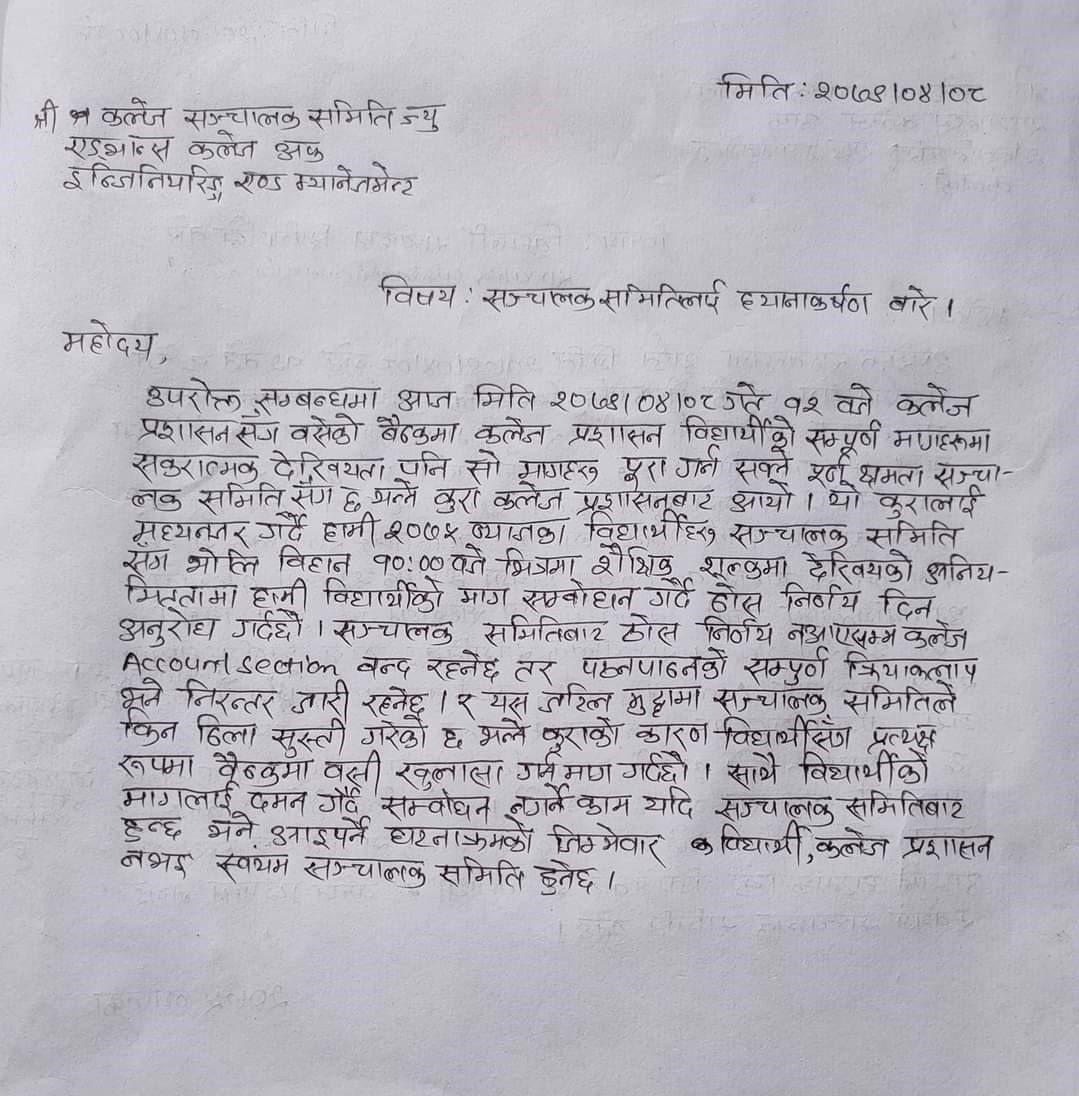text: (59, 159, 228, 205), (812, 77, 992, 109), (579, 645, 729, 683), (301, 849, 429, 891), (294, 161, 421, 203), (737, 281, 873, 320), (320, 572, 444, 614), (596, 277, 729, 316), (716, 715, 852, 752), (797, 749, 935, 785), (388, 820, 537, 853), (329, 610, 458, 648), (137, 415, 283, 448), (584, 507, 717, 543), (546, 823, 671, 861), (841, 648, 980, 682), (547, 388, 719, 415), (477, 612, 608, 647), (268, 444, 388, 482), (116, 606, 221, 649), (844, 789, 969, 825), (728, 515, 852, 551), (129, 451, 261, 484), (120, 573, 239, 609), (838, 682, 967, 715), (379, 788, 494, 825), (711, 791, 837, 824), (799, 548, 914, 584), (120, 778, 238, 813), (718, 820, 805, 867), (61, 317, 158, 359), (143, 374, 244, 414), (571, 485, 718, 512), (681, 413, 794, 448), (393, 756, 506, 791), (265, 815, 369, 853), (182, 100, 303, 132), (126, 516, 250, 547), (434, 854, 527, 895), (711, 683, 830, 715), (740, 645, 829, 687), (519, 581, 635, 613), (210, 749, 310, 786), (871, 487, 990, 518), (303, 94, 397, 133), (180, 676, 279, 713), (480, 283, 596, 314), (254, 383, 382, 411), (267, 715, 348, 759), (898, 829, 994, 866), (61, 131, 173, 162), (888, 424, 993, 457), (784, 620, 899, 649), (590, 540, 675, 579), (623, 682, 705, 721), (895, 381, 977, 420), (540, 715, 622, 753), (863, 519, 963, 550), (563, 419, 666, 449), (288, 409, 362, 450), (467, 517, 570, 546), (377, 272, 459, 308), (779, 579, 861, 615), (489, 480, 570, 516), (698, 550, 792, 581), (424, 647, 506, 682), (813, 825, 886, 864), (371, 415, 459, 447), (715, 71, 797, 105), (802, 420, 883, 454), (228, 609, 306, 644), (536, 681, 615, 715), (213, 851, 292, 885), (97, 95, 171, 131), (924, 551, 995, 588), (195, 482, 285, 511), (498, 546, 579, 578), (116, 845, 192, 879), (118, 706, 178, 749), (116, 750, 196, 782), (533, 858, 597, 898), (288, 678, 351, 718), (357, 715, 427, 751), (274, 543, 354, 574), (184, 547, 263, 578), (186, 128, 258, 162), (619, 751, 691, 785), (471, 380, 539, 415), (323, 747, 384, 786), (513, 455, 601, 482), (702, 613, 776, 645), (193, 712, 257, 749), (248, 574, 310, 612), (506, 781, 568, 819), (380, 516, 461, 545), (727, 481, 796, 515), (472, 415, 551, 444), (619, 613, 683, 648), (641, 782, 697, 822), (854, 459, 925, 490), (930, 458, 1003, 488), (631, 721, 709, 749), (707, 580, 767, 616), (863, 723, 939, 751), (877, 584, 937, 619), (361, 684, 430, 714), (319, 513, 378, 548), (884, 284, 935, 324), (733, 447, 794, 480), (900, 623, 969, 652), (727, 753, 779, 791), (120, 813, 183, 844), (370, 549, 446, 574), (396, 446, 453, 479), (574, 789, 634, 820), (645, 575, 696, 611), (352, 653, 416, 681), (232, 163, 286, 196), (619, 452, 669, 487), (273, 133, 326, 166), (477, 715, 528, 749), (399, 100, 447, 136), (371, 479, 422, 512), (674, 445, 722, 480), (512, 749, 560, 784), (247, 789, 309, 816), (257, 512, 307, 545), (128, 486, 186, 514), (394, 387, 454, 414), (316, 784, 365, 817), (722, 378, 768, 413), (119, 676, 166, 710), (832, 381, 876, 417), (203, 814, 259, 842), (804, 452, 850, 486), (120, 544, 172, 574), (432, 485, 481, 516), (462, 448, 503, 483), (484, 685, 531, 715), (456, 583, 510, 609), (448, 544, 490, 577), (509, 657, 554, 686), (560, 760, 613, 784), (29, 95, 60, 134), (824, 482, 862, 513), (292, 484, 334, 511), (782, 393, 824, 419), (452, 688, 479, 724), (337, 483, 368, 513), (438, 724, 469, 754)
